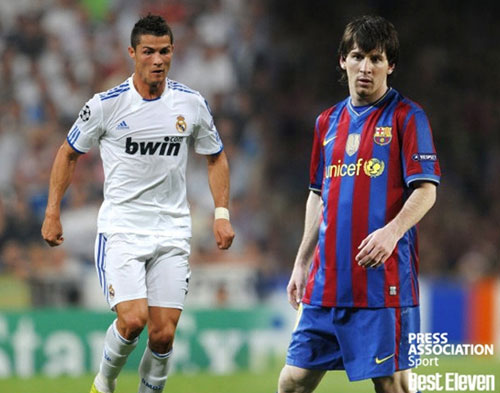barcelona: (289, 12, 423, 392)
realmadrid: (37, 16, 231, 393)
